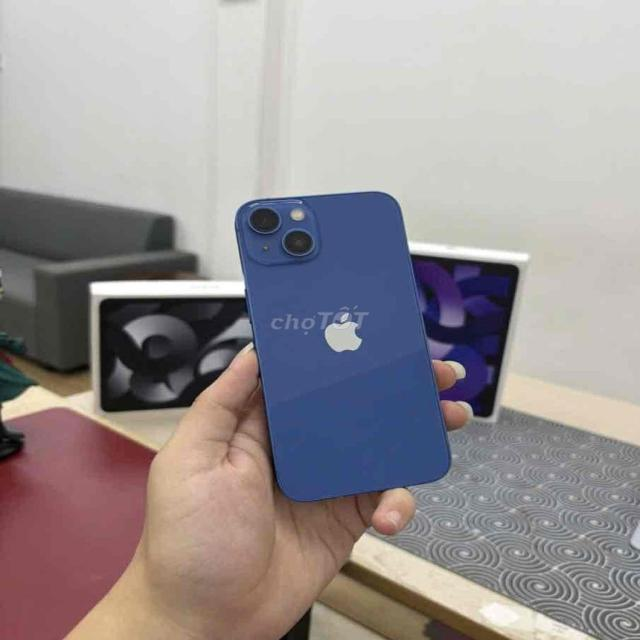gen_12_13: (231, 189, 453, 507)
